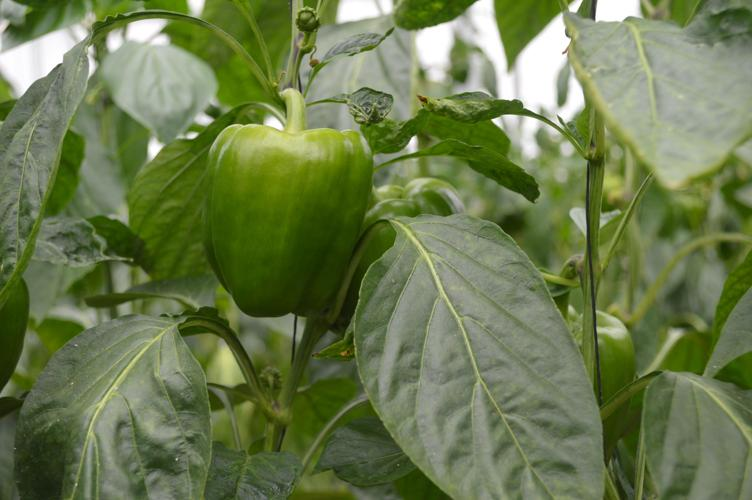BellPepper: (195, 115, 361, 314), (349, 170, 460, 294), (561, 298, 647, 407)
